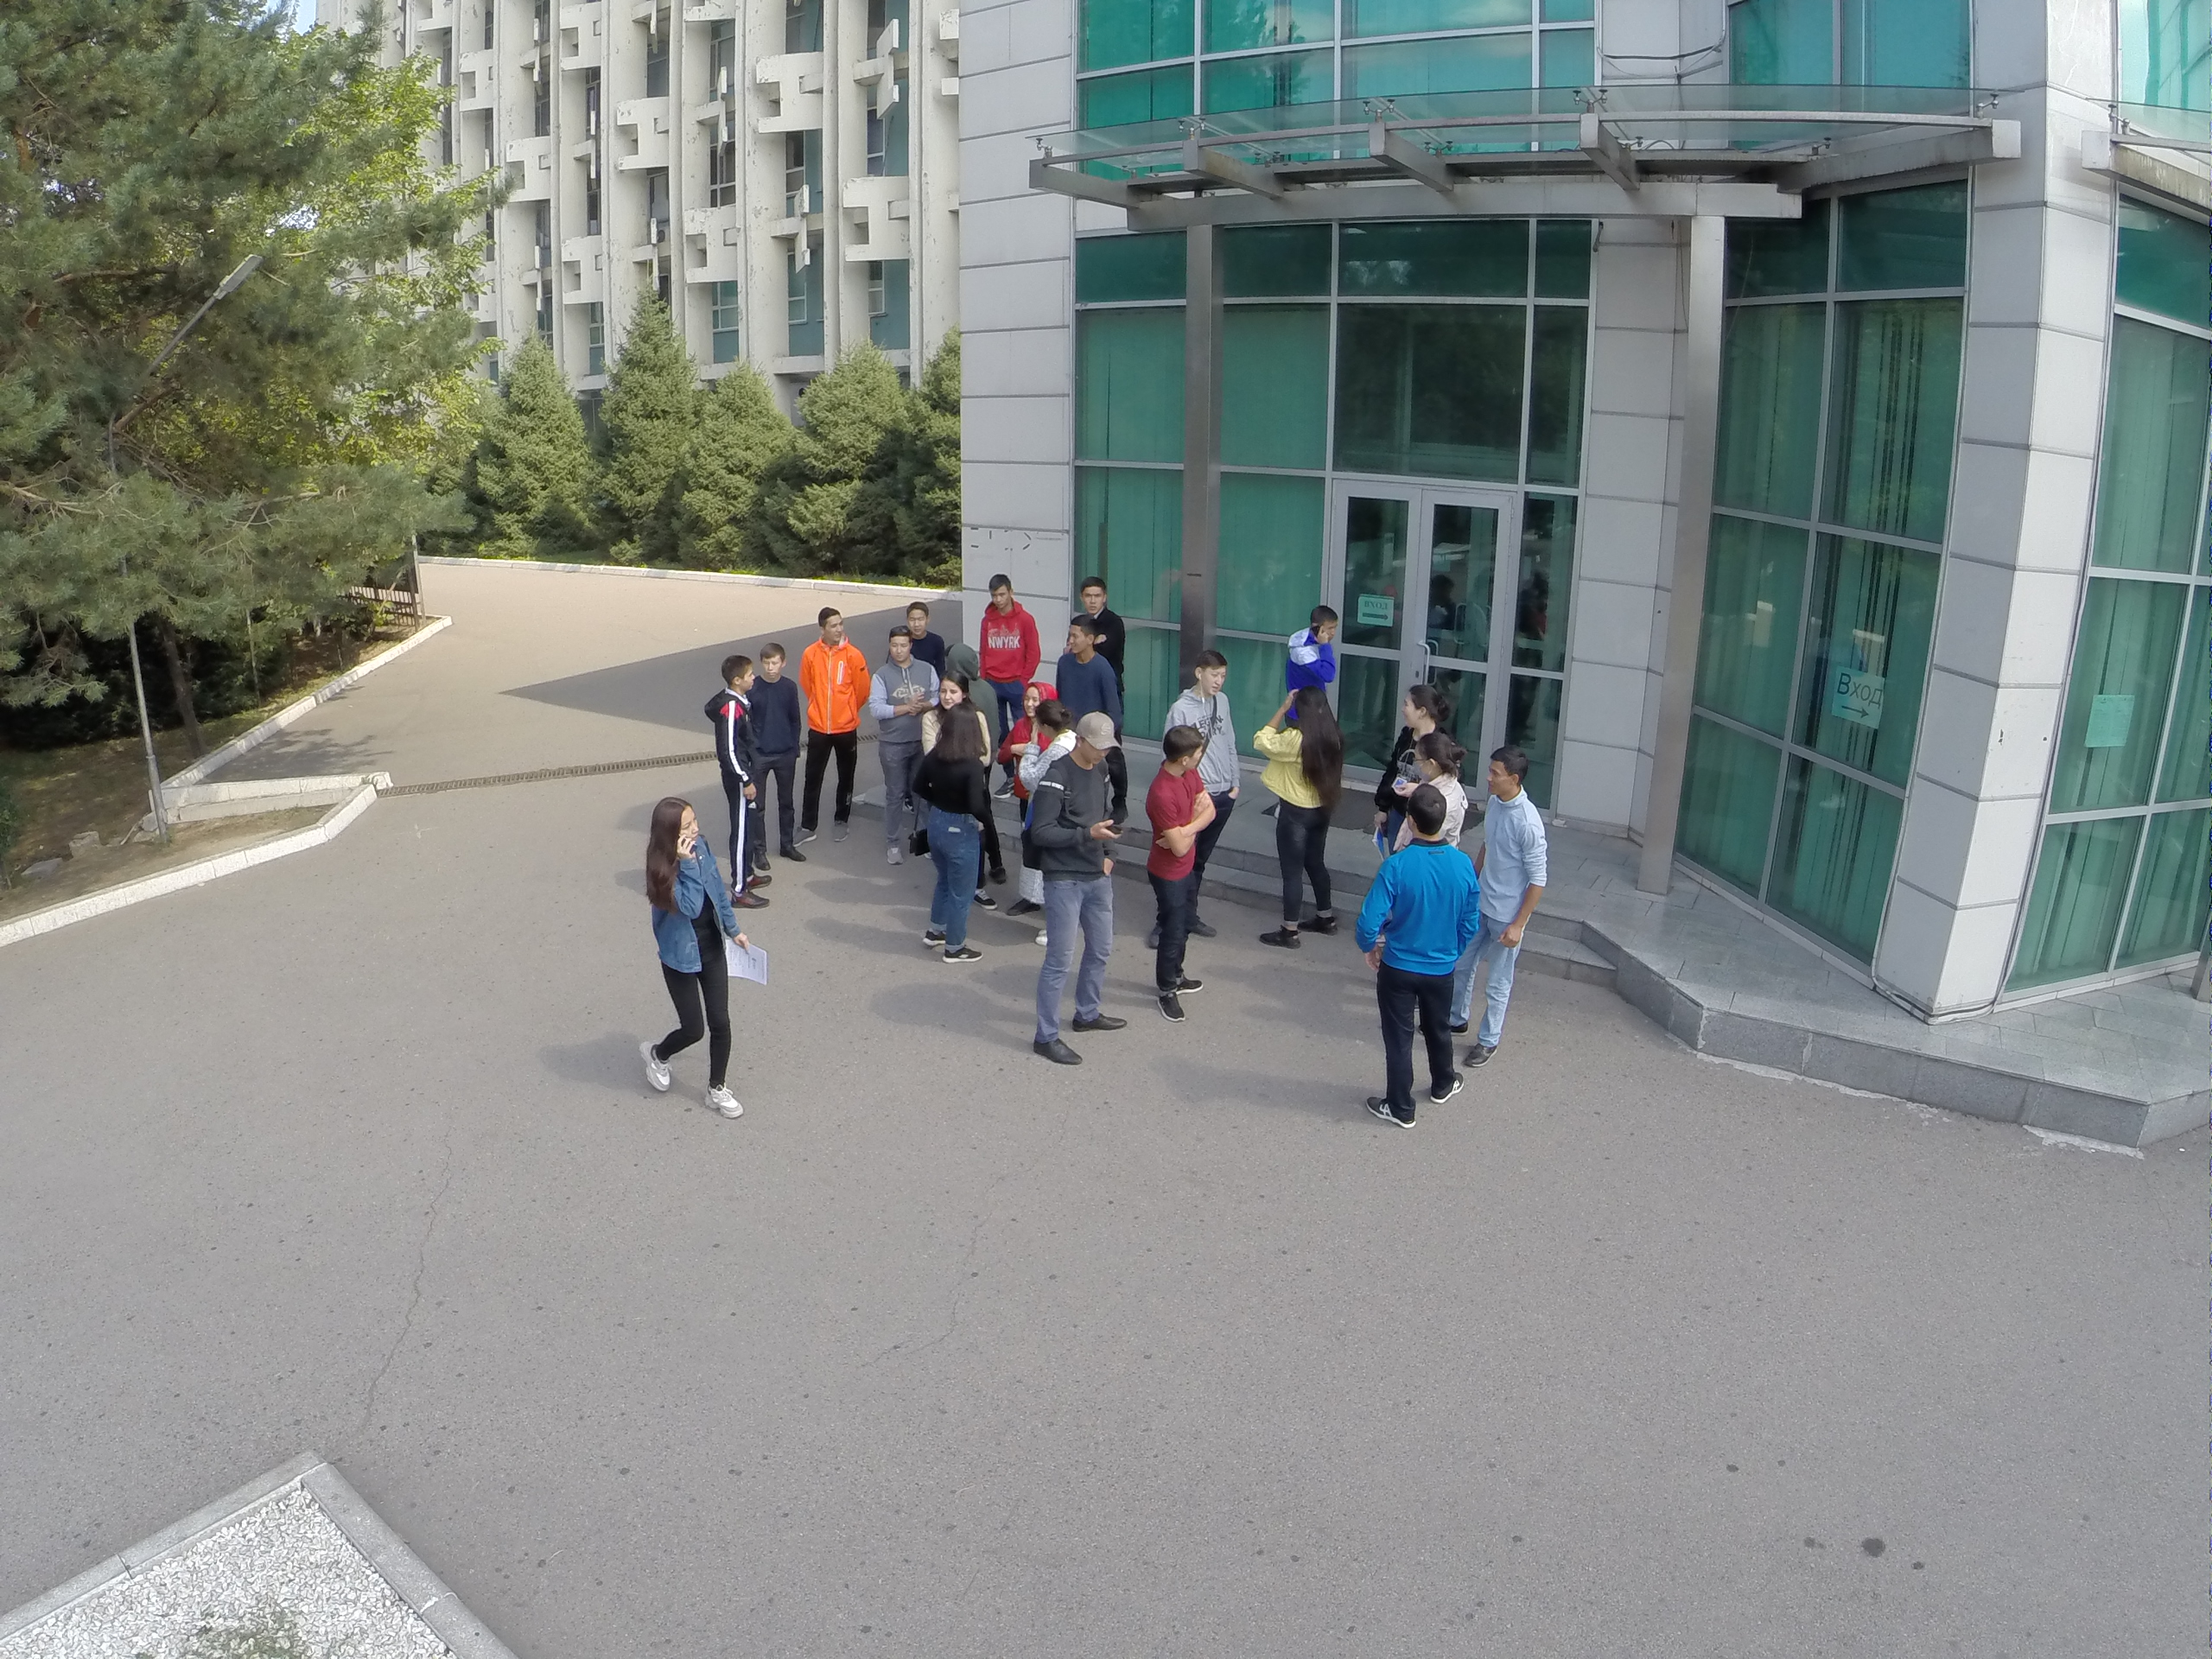person: (624, 791, 772, 1132), (1360, 775, 1470, 1128), (1037, 713, 1129, 1076), (1465, 740, 1552, 1078), (1255, 686, 1344, 959), (695, 653, 772, 916), (798, 601, 883, 842), (908, 702, 984, 969), (1150, 737, 1205, 1025), (883, 630, 939, 855), (753, 645, 804, 858), (1371, 678, 1425, 854), (1050, 619, 1140, 709), (1168, 649, 1240, 760), (976, 566, 1037, 678), (1416, 730, 1468, 848), (1077, 577, 1123, 621), (902, 603, 934, 644)
